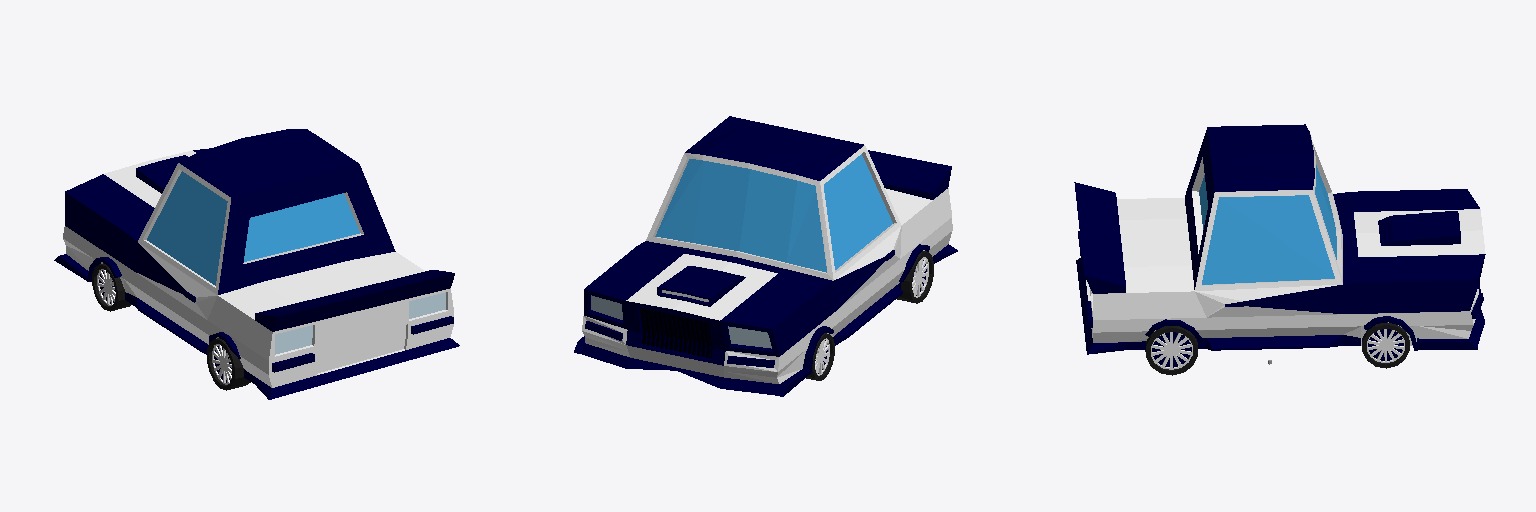
Rendered from Car.obj.
The picture shows the model from 3 angles: view 1: azimuth 30°, elevation 25°; view 2: azimuth 150°, elevation 25°; view 3: azimuth 270°, elevation 25°; orthographic projection.
Visible parts, largest first — view 1: body_1; view 2: body_1; view 3: body_1.
Boxes of the visible parts, x1,y1,x2,y2 form: body_1: [54, 129, 459, 399]; body_1: [574, 116, 957, 396]; body_1: [1074, 124, 1485, 375].
Bounding box in the file's own units: 0.565 × 0.5216 × 0.9283.